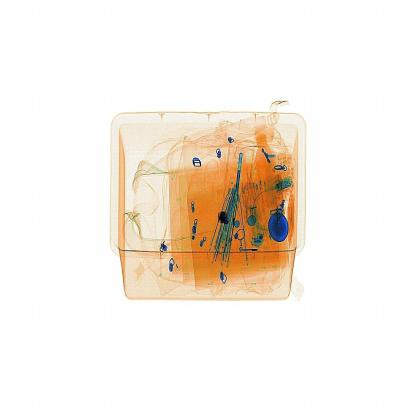scissors: (212, 198, 238, 232)
